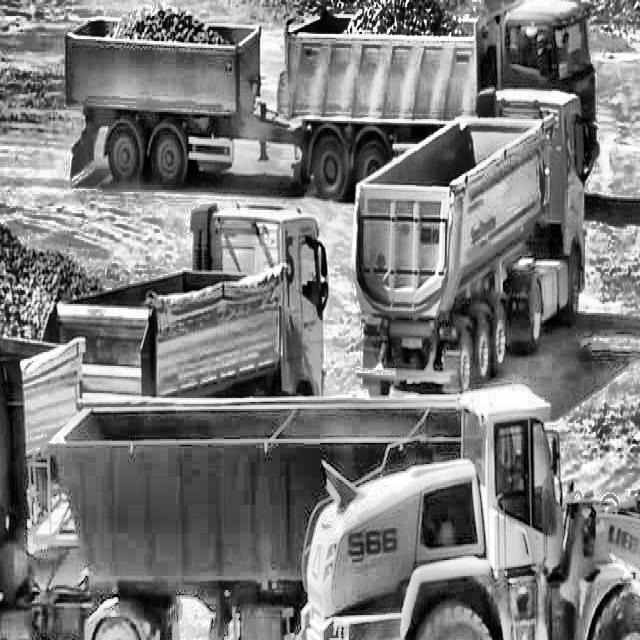buldozerpayloadergrader: (296, 377, 640, 640)
dump_truck: (0, 348, 467, 640), (0, 185, 327, 542), (61, 0, 598, 204), (347, 80, 587, 395)
